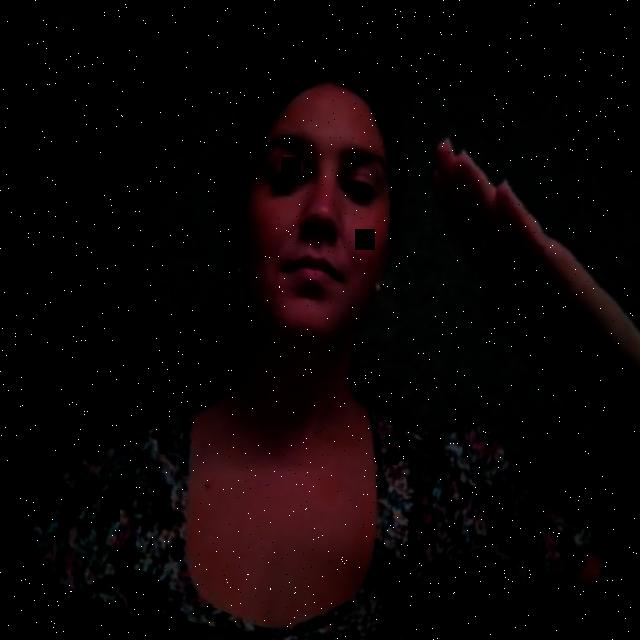Paper: (382, 123, 640, 414)
